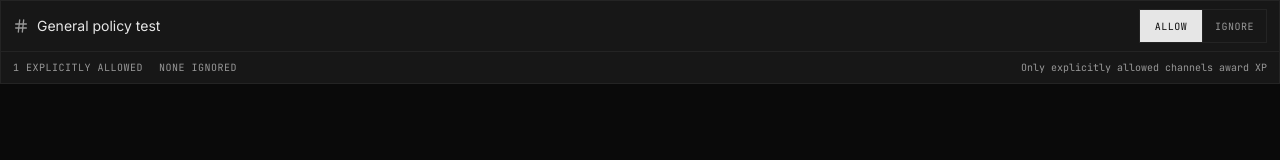
Test: configuration controls › keeps allow and ignore policies mutually exclusive
This screenshot has width=1280, height=160.
Click the button "Ignore": coordinates (1234, 26) [1203,10,1266,42]
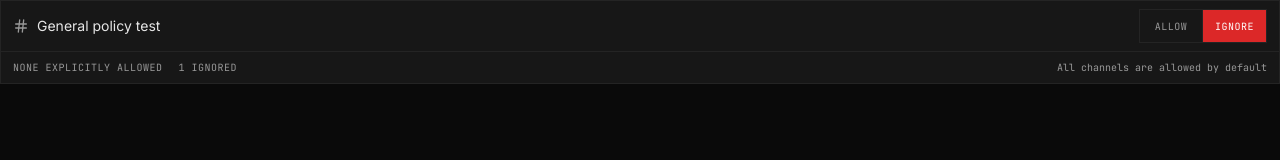
Result: the button "Allow" is not pressed at [1140,10,1203,42]
Result: the button "Ignore" is pressed at [1203,10,1266,42]
